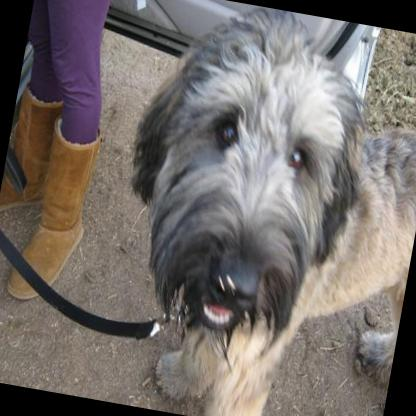briard: (88, 0, 416, 416)
